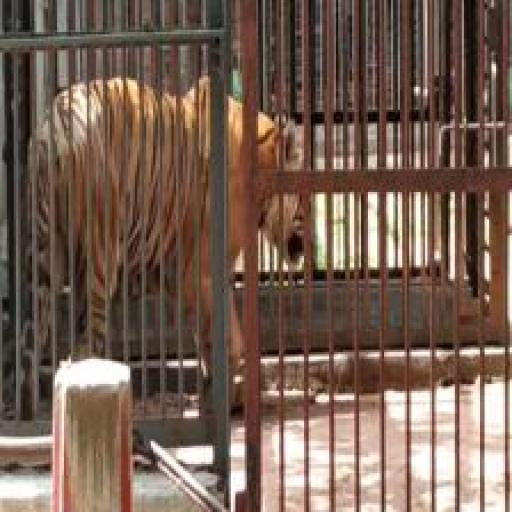Tiger: (23, 55, 331, 410)
